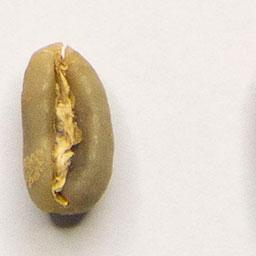longberry: (18, 38, 118, 220)
